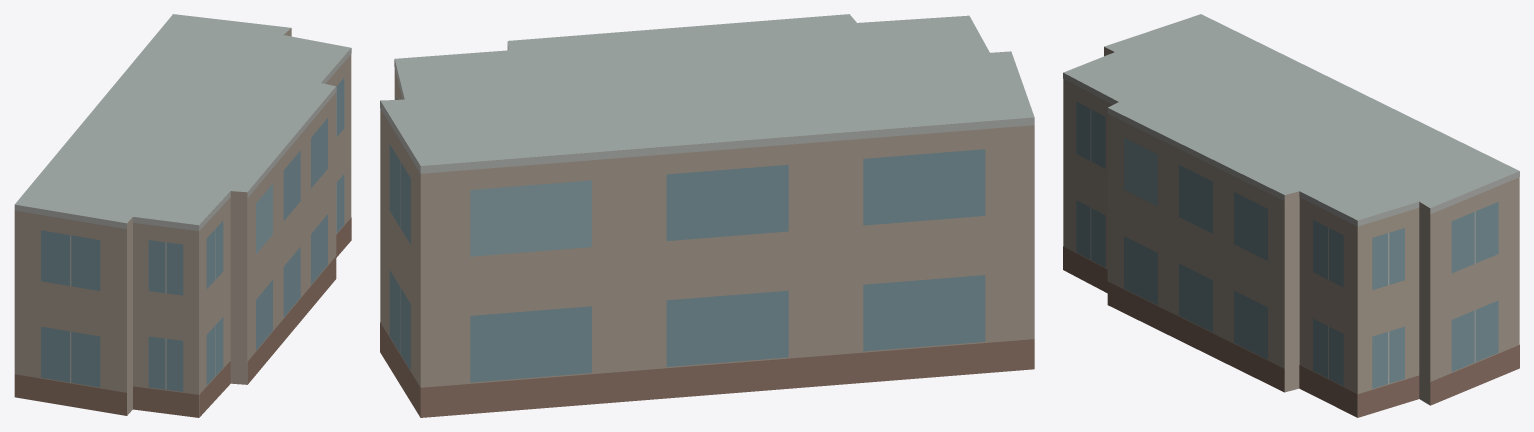
Rendered from survey-upis-32626706.glb.
3 renders of one model, left to right at view 1: azimuth 30°, elevation 25°; view 2: azimuth 150°, elevation 25°; view 3: azimuth 270°, elevation 25°, orthographic. The views are drawn at different scales.
Parts seen in each view (by area): view 1: survey-upis-32626706.tmp; view 2: survey-upis-32626706.tmp; view 3: survey-upis-32626706.tmp.
Boxes of the visible parts, <box> form: survey-upis-32626706.tmp: <box>14,14,351,417</box>; survey-upis-32626706.tmp: <box>380,14,1034,417</box>; survey-upis-32626706.tmp: <box>1063,14,1519,417</box>.
Bounding box in the file's own units: 17.86 × 7.95 × 16.69.
